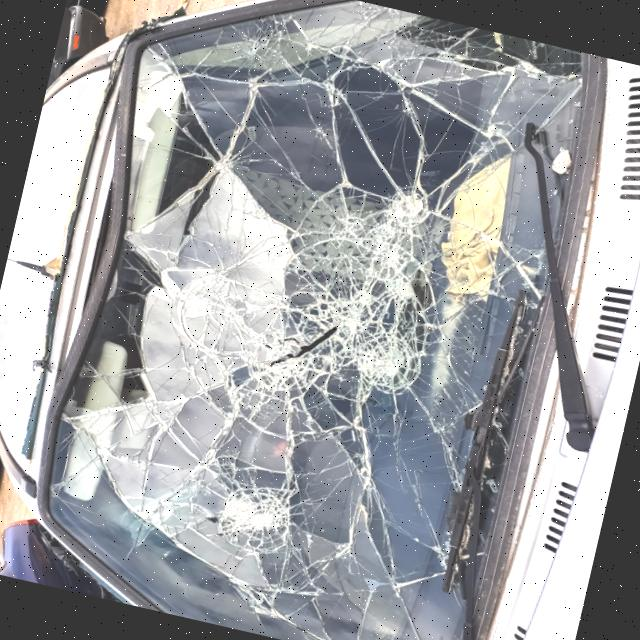Windshield: (27, 29, 566, 628)
